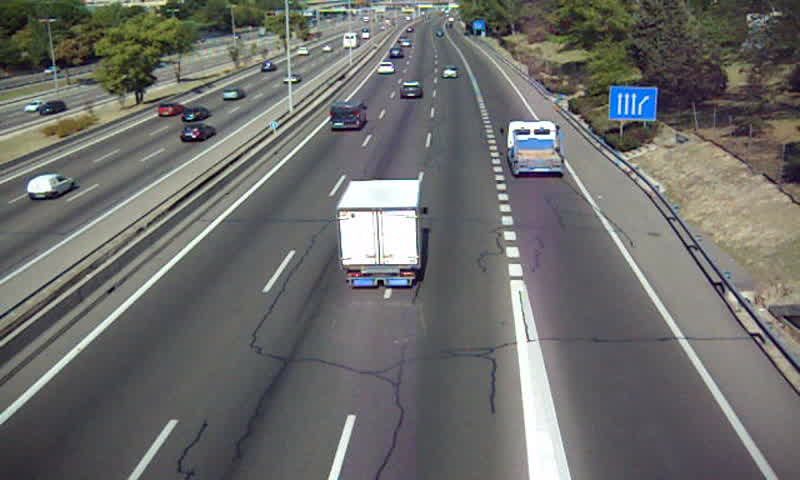car: (398, 80, 424, 102), (376, 60, 394, 77), (442, 65, 459, 78)
small-truck: (336, 178, 421, 287), (507, 120, 564, 178)
van: (329, 102, 366, 130)
